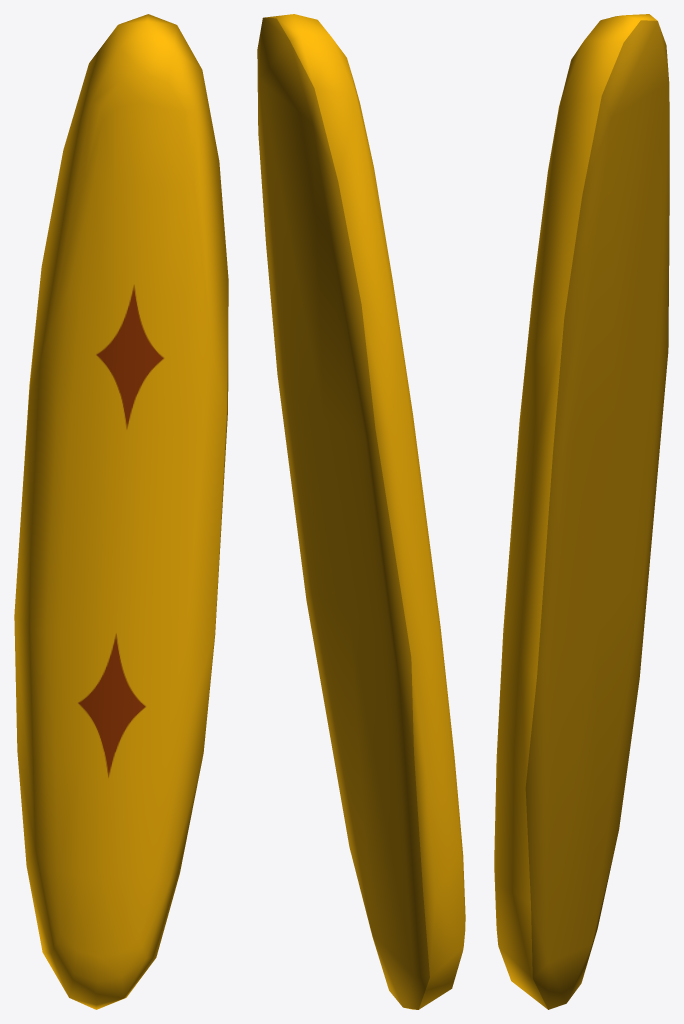
File: yoot.glb
3 renders of one model, left to right at view 1: azimuth 30°, elevation 25°; view 2: azimuth 150°, elevation 25°; view 3: azimuth 270°, elevation 25°, orthographic. The views are drawn at different scales.
Visible parts, largest first — view 1: yoot1; view 2: yoot1; view 3: yoot1.
Boxes of the visible parts, left/top/right/bottom form: yoot1: left=14, top=14, right=228, bottom=1009; yoot1: left=257, top=14, right=465, bottom=1009; yoot1: left=494, top=14, right=669, bottom=1009.
Size of the model in its own units: 2.61 by 12.47 by 1.92.
Materials: 1 (1 with a texture image).
